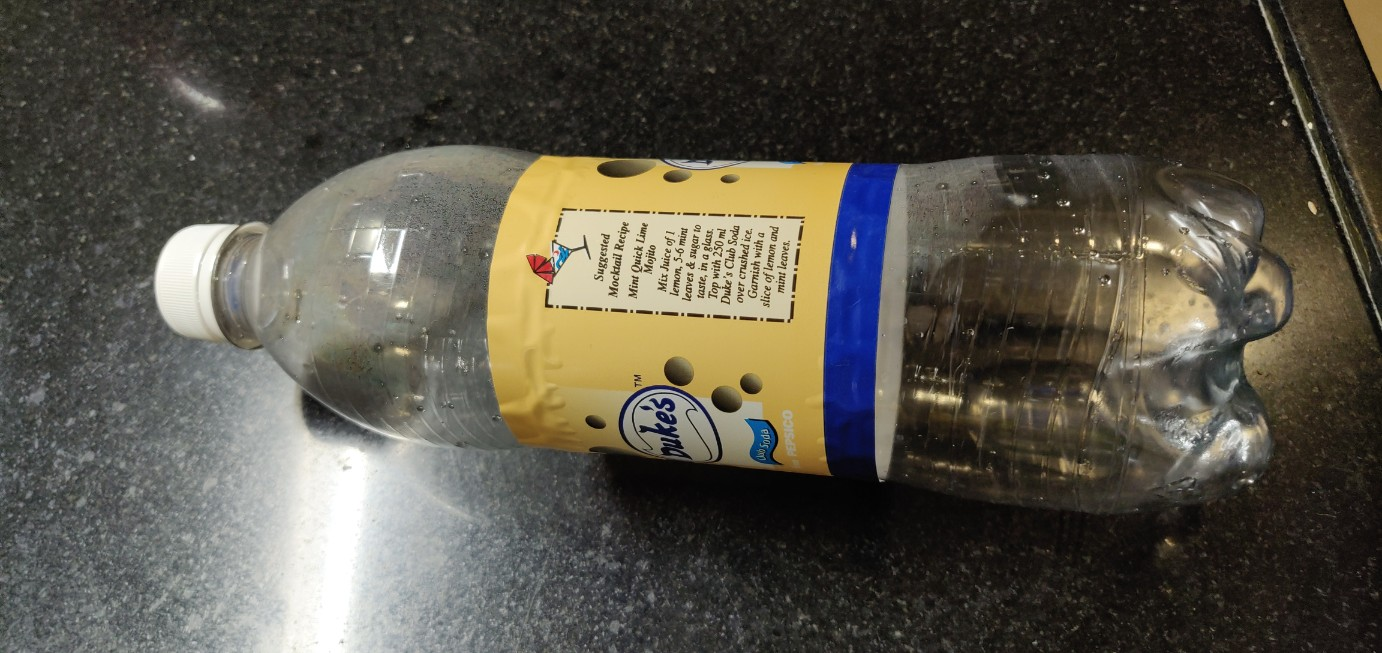Electronics: (120, 90, 1326, 554)
